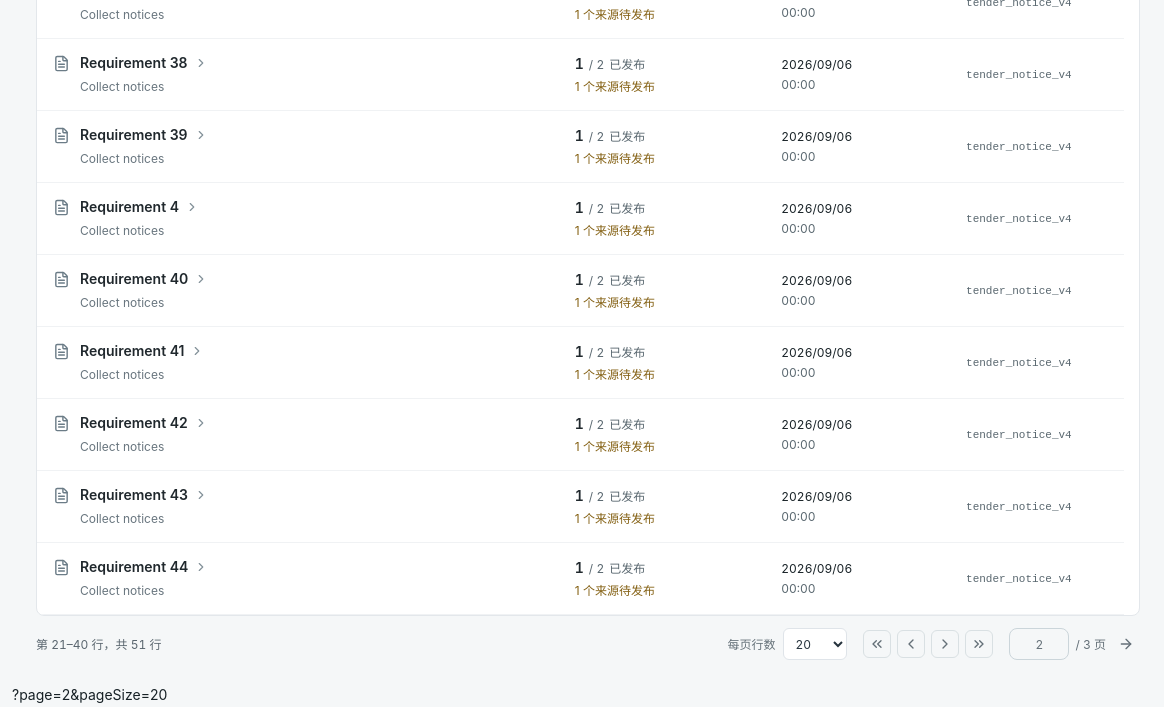
Test case: collections uses the shared bounded list and replaces pages, preserving URL and filter behavior
(page scrolled)
Expected: the text "第 21–40 行，共 51 行" is shown, [36,635,162,654]
Click the button named "下一页" at (945, 644), box [931,630,959,658]
(page scrolled)
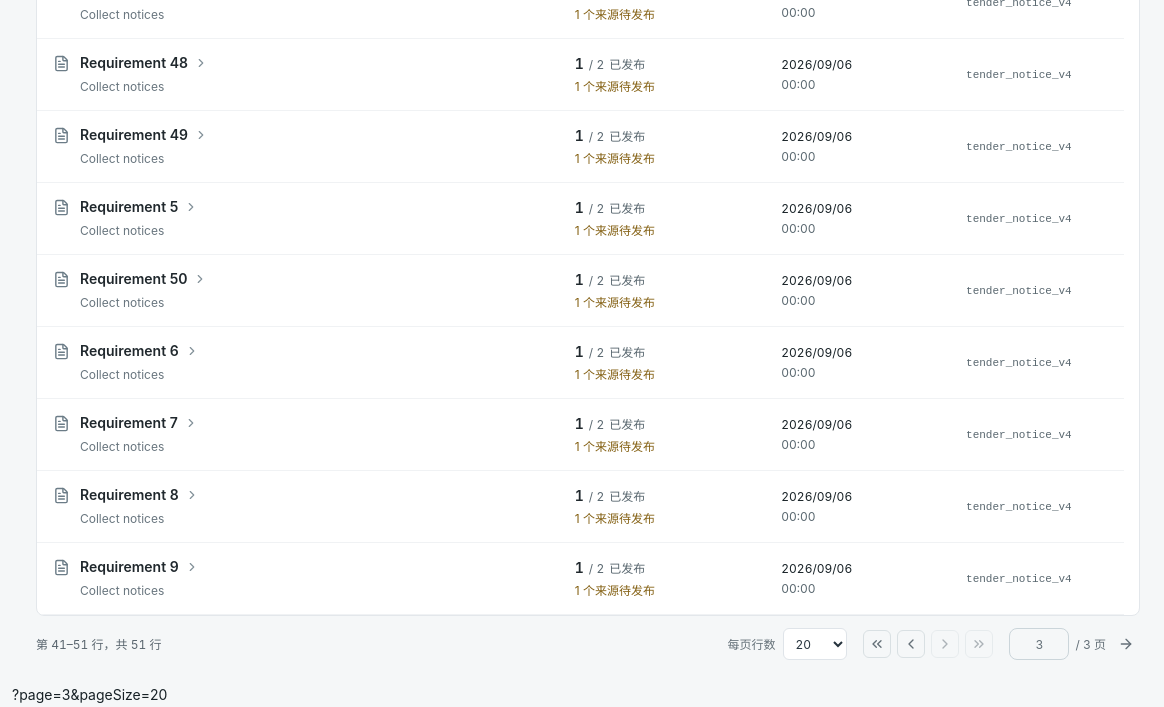
Result: the text "第 41–51 行，共 51 行" is shown at [36,635,162,654]
Result: the text with test id "location" shows "page=3" at [12,686,167,703]
Select "50" in the dropdown labelled "每页行数" at (815, 644), box [783,628,847,660]
(page scrolled)
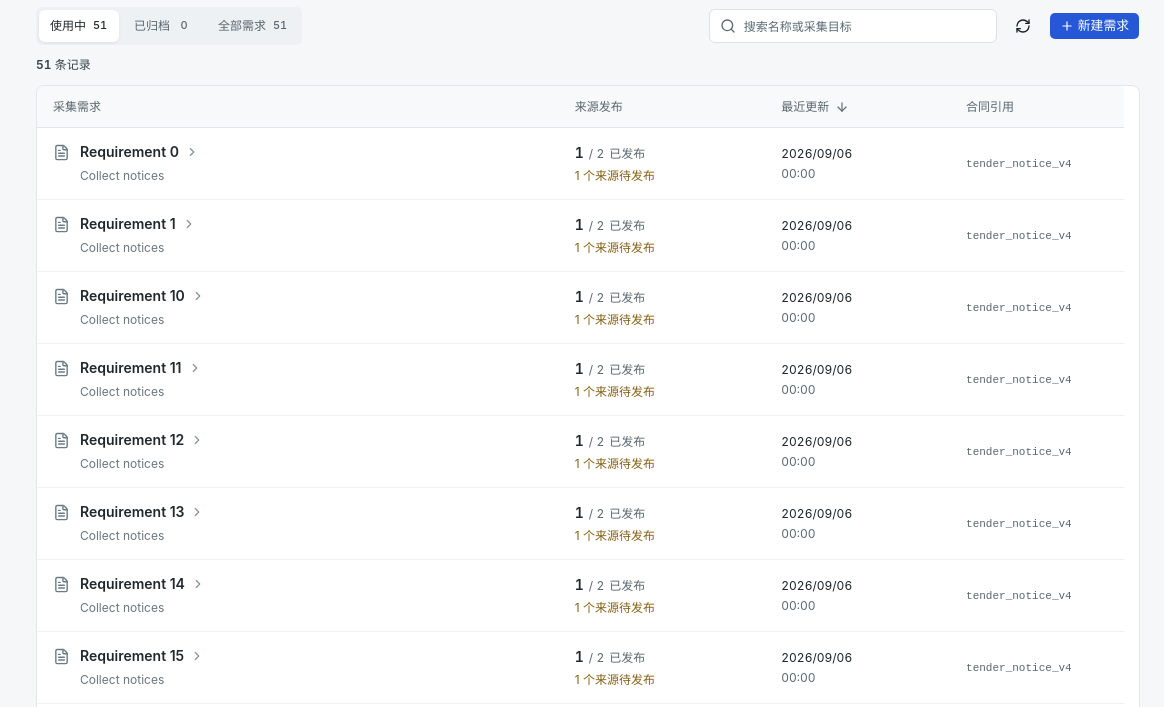
Type "no-matching-data" into the field named "搜索采集需求" at (869, 26), box [744,10,994,42]
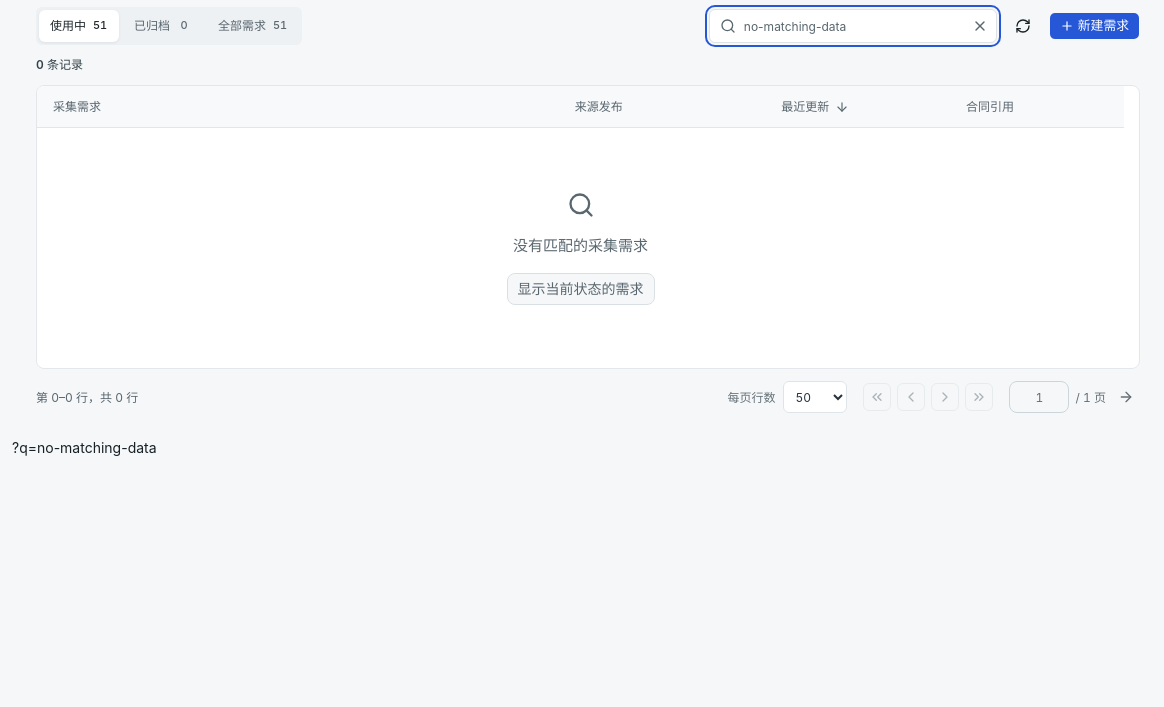
Result: the number field named "当前页码" holds "1" at [1009,381,1069,413]
Result: the text "第 0–0 行，共 0 行" is shown at [36,388,138,407]
